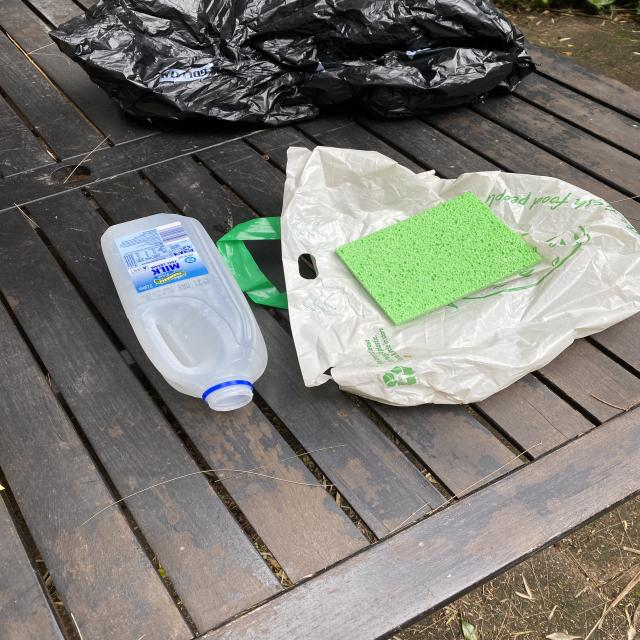bag: (218, 145, 640, 405), (49, 0, 537, 128)
bottle: (100, 213, 269, 411)
sponge: (335, 190, 542, 326)
